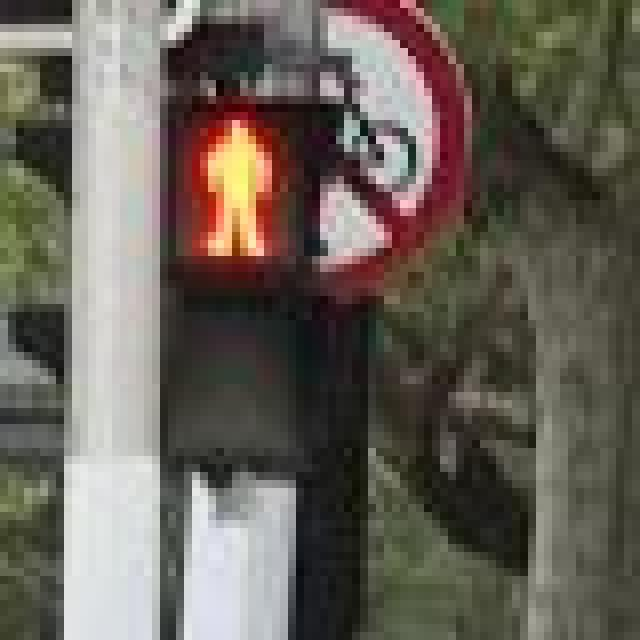redlight: (144, 64, 360, 472)
